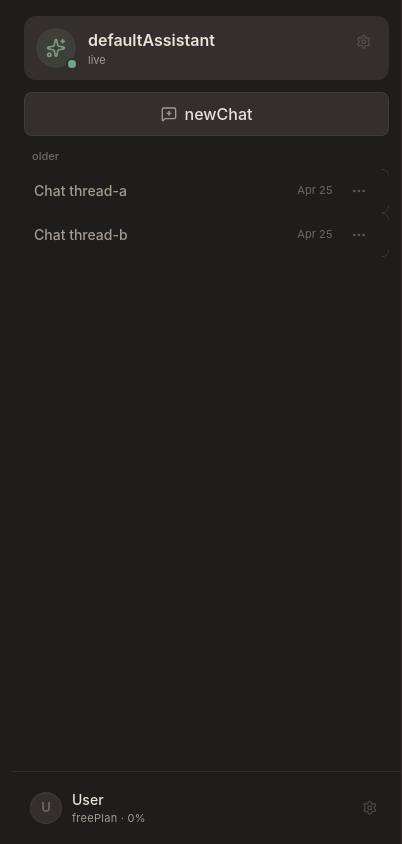
Scenario: Sidebar — ADR-076 Slice 5 chat list skeleton › keeps only one inline action row open and closes it on outside tap
Click the 1st button named "chatActions" at (359, 190), box [339, 170, 379, 210]
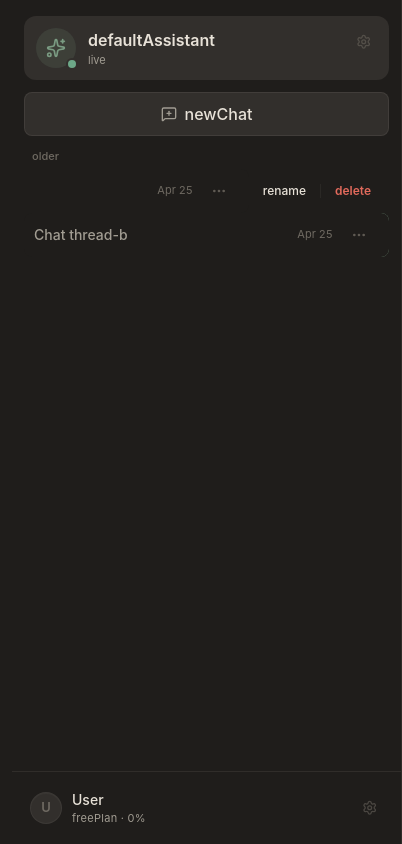
Expected: the element with test id "mobile-chat-actions-thread-a" is shown, [249, 168, 389, 212]
Press the mouse on the button named "chatActions" next to "archive" at (359, 234), box [339, 214, 379, 254]
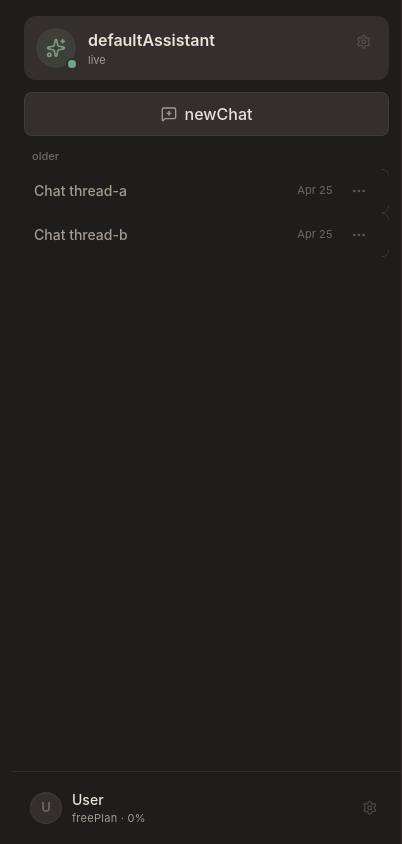
Click the 2nd button named "chatActions" at (359, 234), box [339, 214, 379, 254]
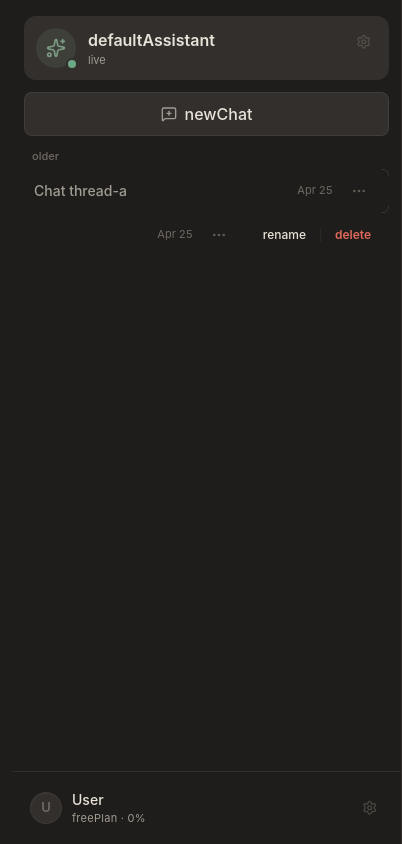
Expected: the element with test id "mobile-chat-actions-thread-b" is shown, [249, 212, 389, 256]
Press the mouse on the element that starts with "defaultAssistant" at (207, 422), box [12, 0, 401, 843]
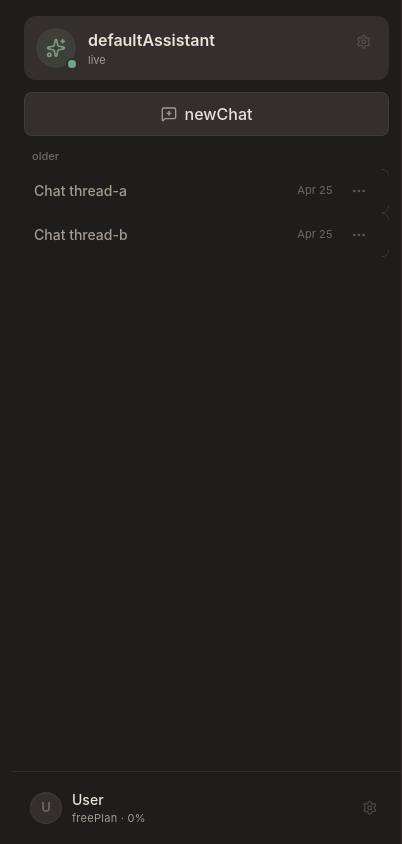
Expected: the element with test id "mobile-chat-actions-thread-b" is gone
